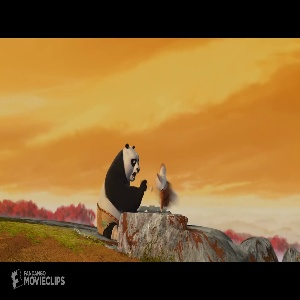po: (94, 141, 150, 241)
shifu: (153, 164, 181, 213)
